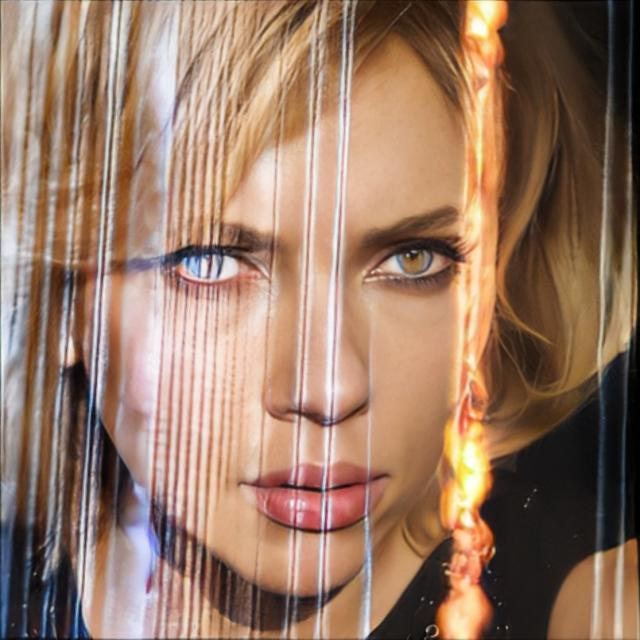anger: (88, 37, 474, 601)
